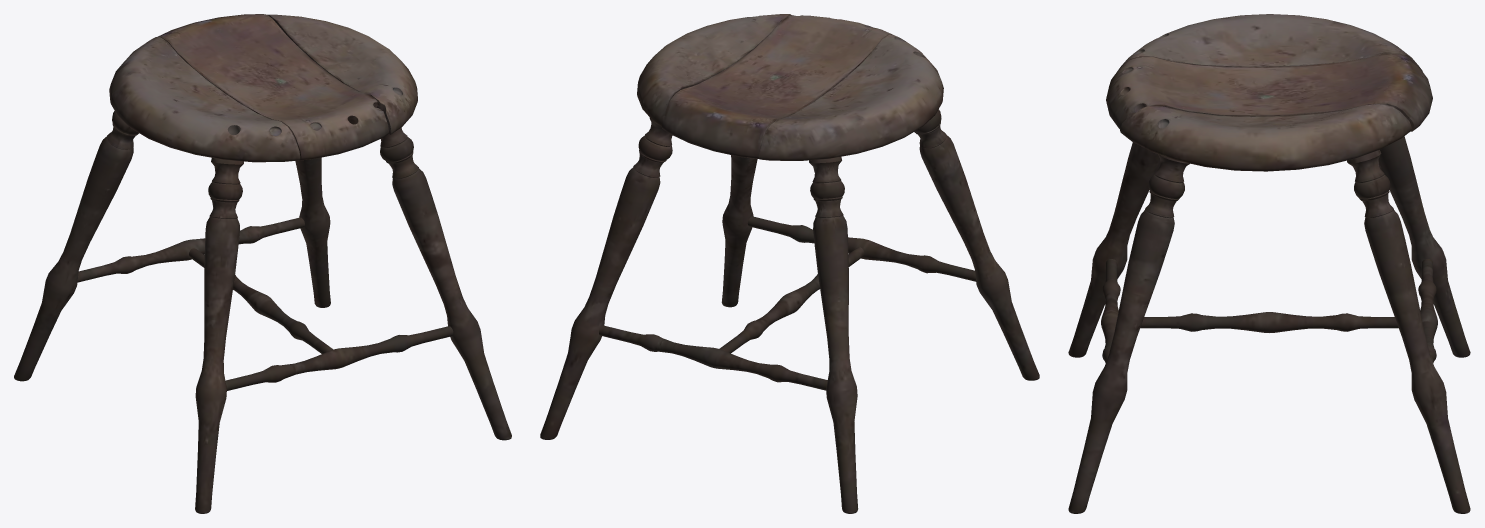
File: wooden_stool_01.glb
The picture shows the model from 3 angles, left to right: view 1: azimuth 30°, elevation 25°; view 2: azimuth 150°, elevation 25°; view 3: azimuth 270°, elevation 25°; orthographic projection. The views are drawn at different scales.
Visible parts, largest first — view 1: wooden_stool_01; view 2: wooden_stool_01; view 3: wooden_stool_01.
Part boxes in pixels (x1=…): wooden_stool_01: x1=14, y1=14, x2=511, y2=513; wooden_stool_01: x1=540, y1=14, x2=1039, y2=513; wooden_stool_01: x1=1068, y1=14, x2=1470, y2=513.
Bounding box in the file's own units: 0.4254 × 0.4373 × 0.4424.
1 material, 1 textured.
